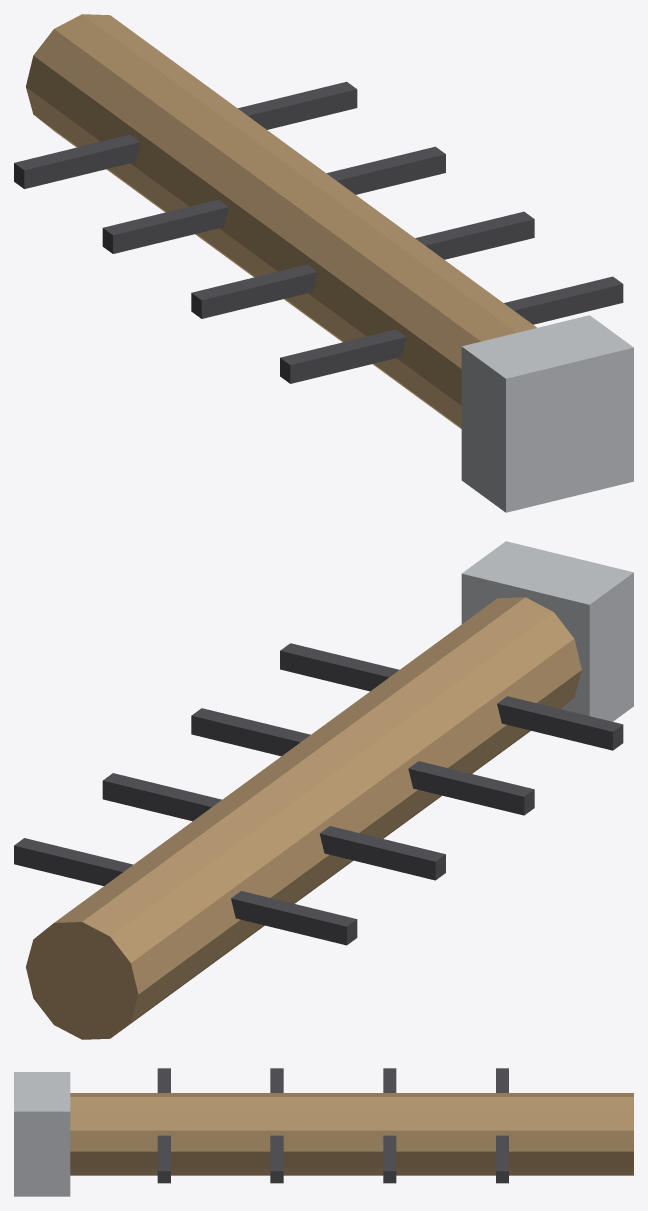
The model's file is ramlog.glb.
3 views of the same model, one above another, from view 1: azimuth 30°, elevation 25°; view 2: azimuth 150°, elevation 25°; view 3: azimuth 270°, elevation 25° (orthographic). The views are drawn at different scales.
Visible parts, largest first — view 1: RamLog; view 2: RamLog; view 3: RamLog.
Boxes of the visible parts, x1=… form: RamLog: x1=14, y1=14, x2=633, y2=512; RamLog: x1=14, y1=541, x2=633, y2=1039; RamLog: x1=14, y1=1068, x2=633, y2=1196.
Size of the model in its own units: 1.3 by 0.5 by 3.3.
